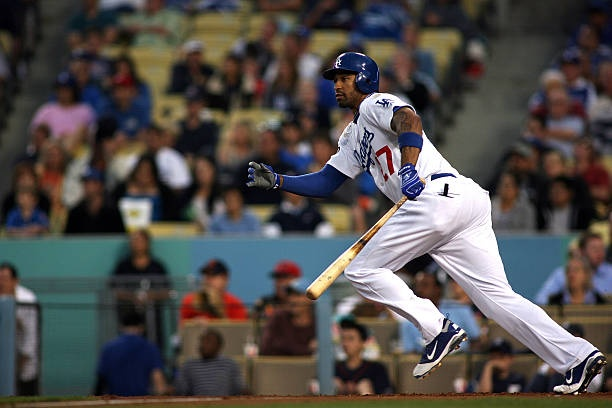bita: (306, 177, 422, 300)
